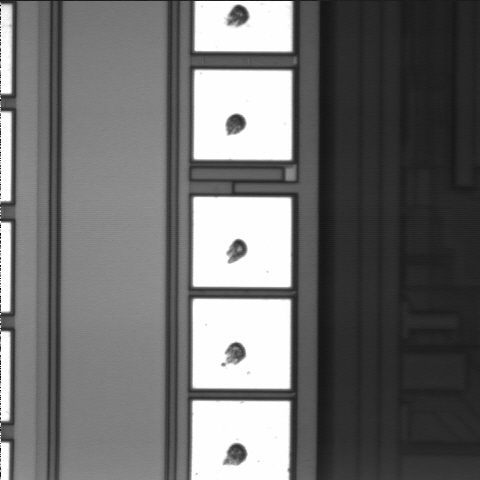pad: (194, 70, 292, 160), (193, 197, 291, 287), (193, 299, 291, 389)
